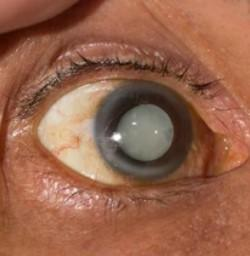eye: (93, 82, 189, 181)
